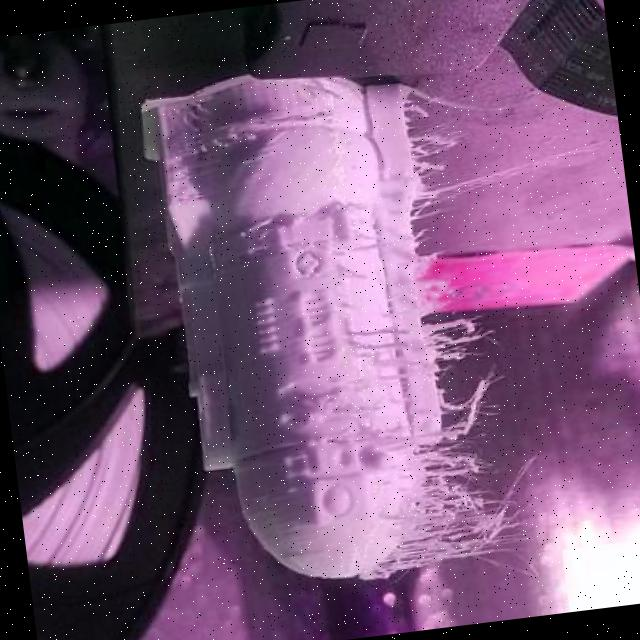spaghetti: (304, 74, 545, 596), (154, 86, 285, 211)
